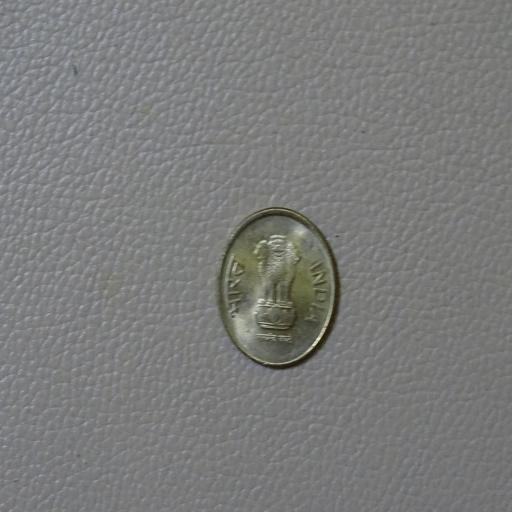rupee5: (215, 207, 338, 366)
